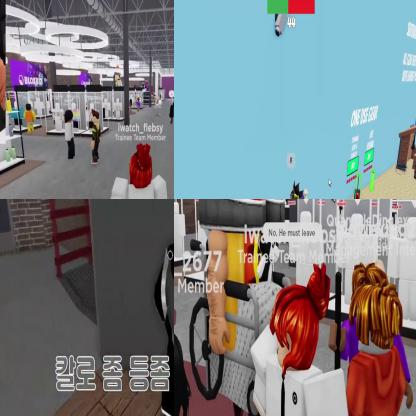Roblox-Avatar: (251, 262, 350, 416), (329, 263, 414, 410), (339, 278, 407, 416), (110, 143, 169, 199), (279, 181, 310, 199), (66, 110, 76, 161), (92, 109, 101, 165), (25, 104, 37, 134), (170, 100, 174, 127), (137, 98, 142, 114), (130, 99, 134, 115)
